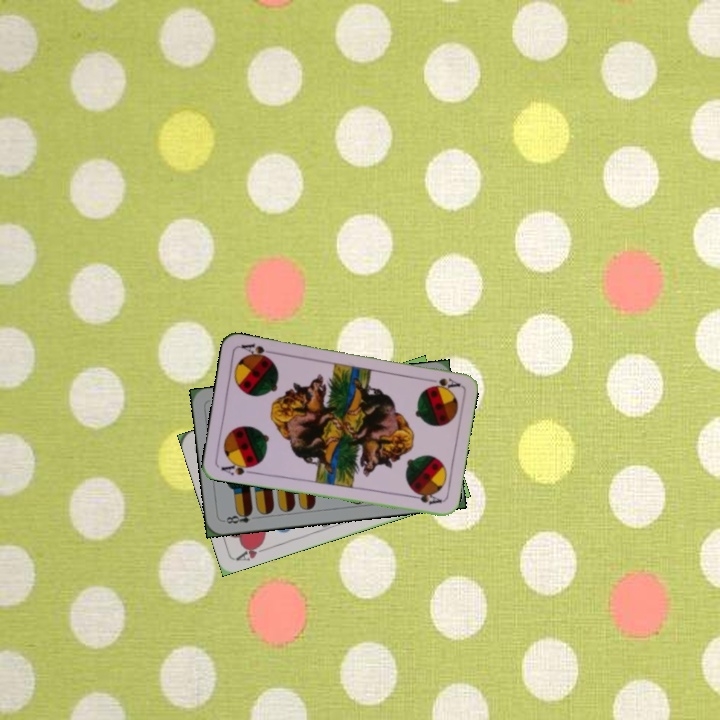E8: (220, 507, 255, 526)
HA: (232, 537, 272, 564)
SA: (217, 458, 257, 478), (428, 374, 462, 391)
